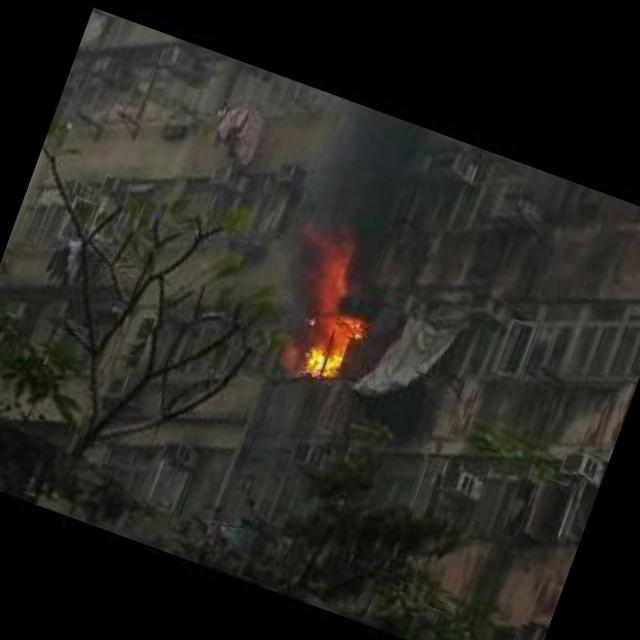fire: (298, 302, 367, 383)
smoke: (260, 84, 447, 326)
